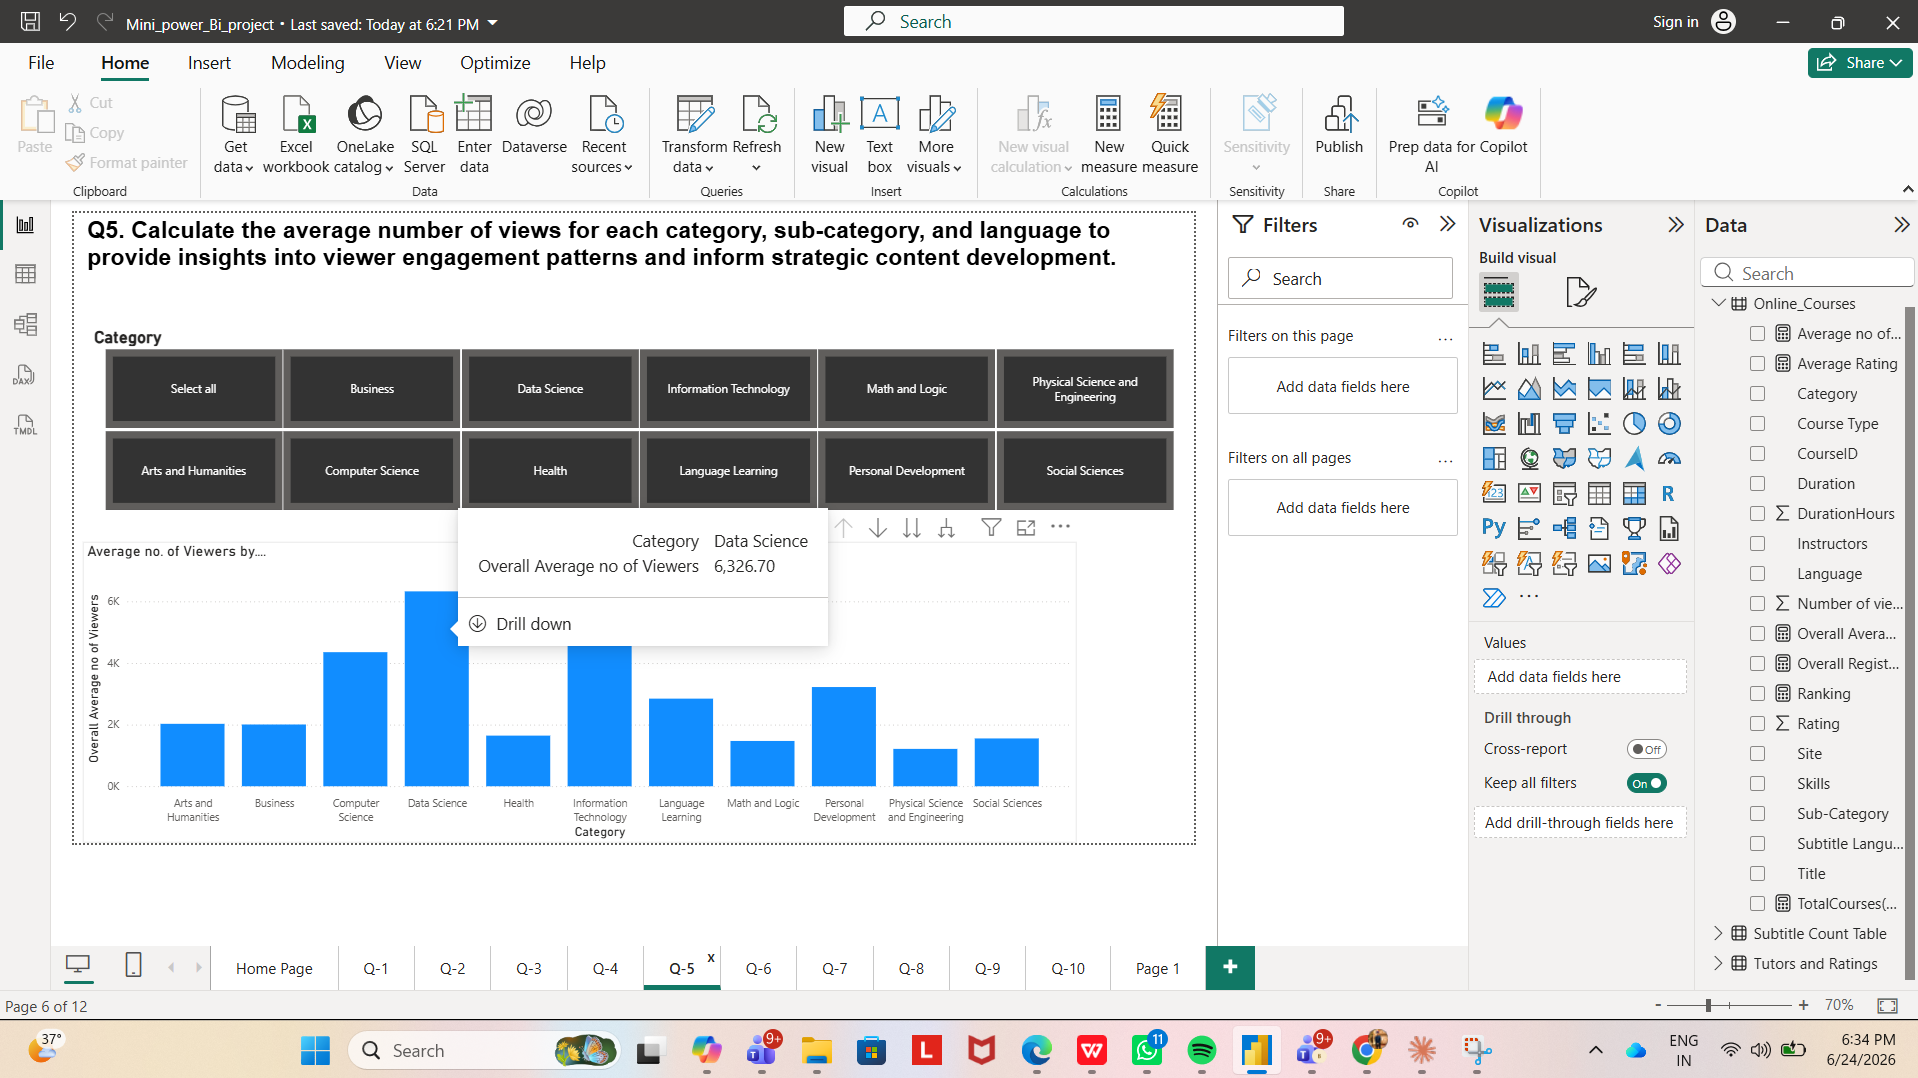

What the dashboard file says about the page in this screenshot:
{"tool":"powerbi","page":{"name":"Q-5","canvas":[1280,720],"ordinal":5},"visuals":[{"type":"textbox","box":[9.6,0,1199.3,116.6],"z":0},{"type":"slicer","fields":{"Values":["Online_Courses.Category"]},"box":[9.9,125.6,1270.4,220.2],"z":1000},{"type":"clusteredColumnChart","title":"Average no. of Viewers by....","fields":{"Category":["Online_Courses.Category","Online_Courses.Sub-Category","Online_Courses.Language"],"Y":["Online_Courses.Overall Average no of Viewers"]},"box":[9.9,375.5,1136.3,344.4],"z":2000}]}

Visuals, with their boxes on the page's 1280x720 design canvas (x1, y1, x2, y2). These are canvas units, not pixel positions in the 1918x1078 screenshot, which may show the page scaled, cropped or inside an application window:
textbox: bbox(10, 0, 1209, 117)
slicer - Online_Courses.Category: bbox(10, 126, 1280, 346)
"Average no. of Viewers by...." clusteredColumnChart: bbox(10, 376, 1146, 720)
